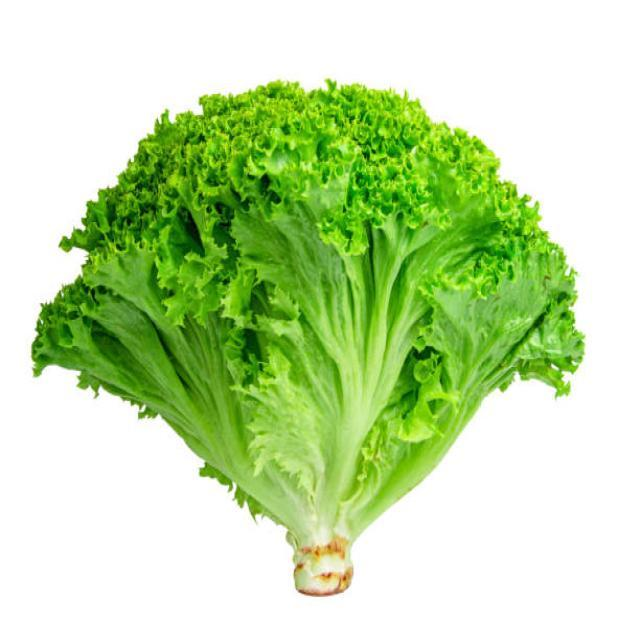Lettuce-Ready-to-Harvest: (32, 82, 584, 595)
